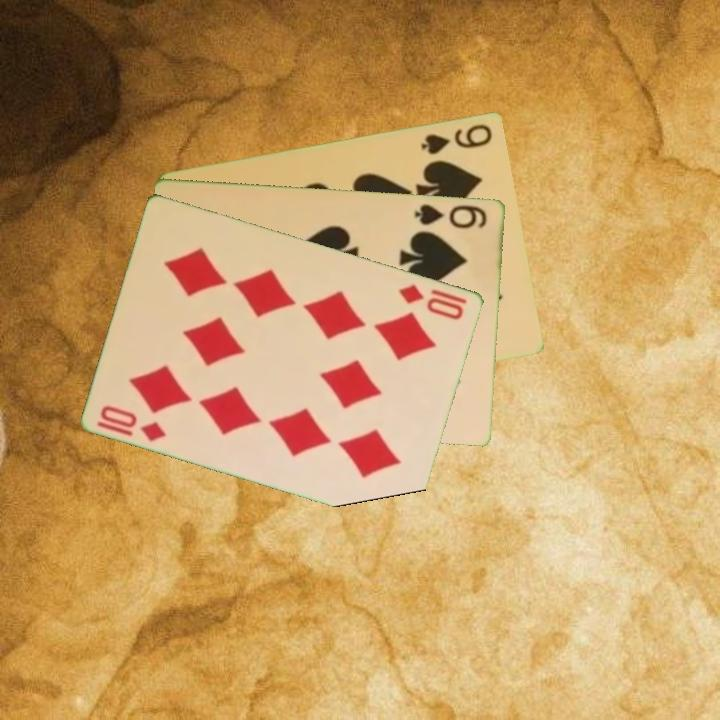10d: (94, 402, 170, 444), (395, 280, 467, 323)
6s: (412, 200, 490, 231)
9s: (418, 120, 496, 157)
